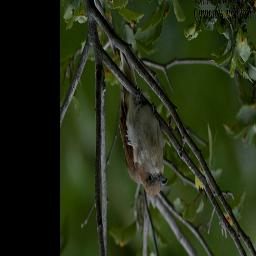Cuckoo: (118, 50, 168, 198)
